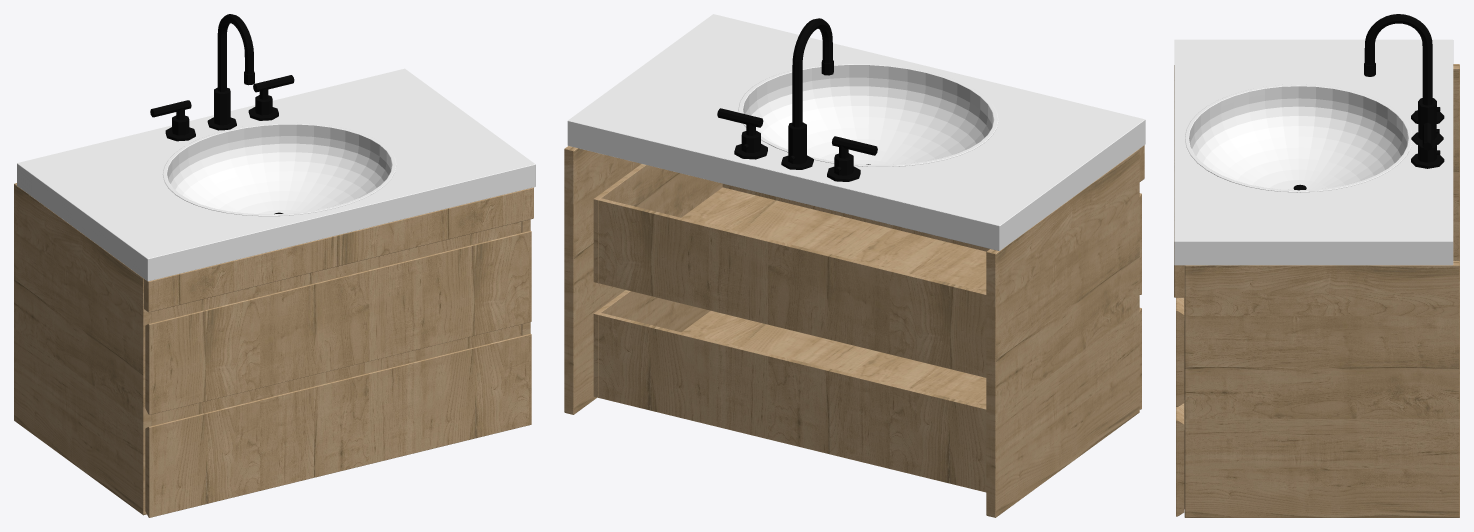
The model's file is light-wood-base-sink.obj.
The picture shows the model from 3 angles, left to right: view 1: azimuth 30°, elevation 25°; view 2: azimuth 150°, elevation 25°; view 3: azimuth 270°, elevation 25°; orthographic projection. The views are drawn at different scales.
Visible parts, largest first — view 1: Sink_173; view 2: Sink_173; view 3: Sink_173.
Boxes of the visible parts, bbox=[...] form: Sink_173: bbox=[14, 14, 535, 517]; Sink_173: bbox=[564, 14, 1145, 517]; Sink_173: bbox=[1174, 14, 1459, 517].
Size of the model in its own units: 89.68 by 83.64 by 53.72.
3 materials, 1 textured.
